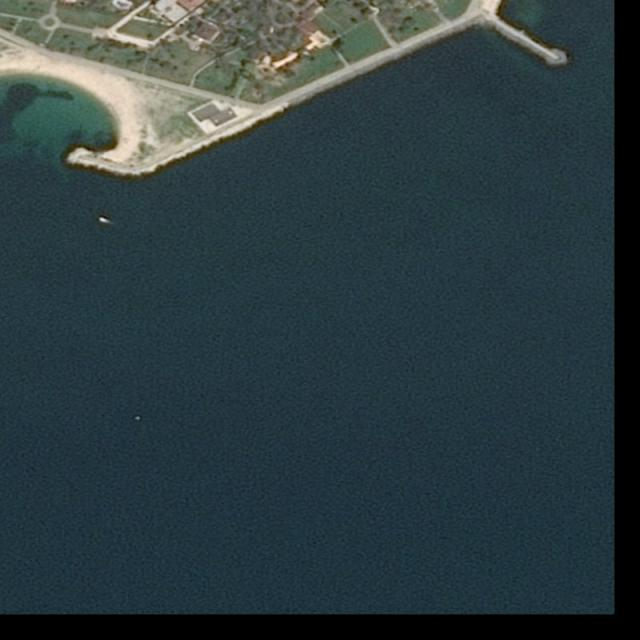ship: (98, 214, 106, 225)
